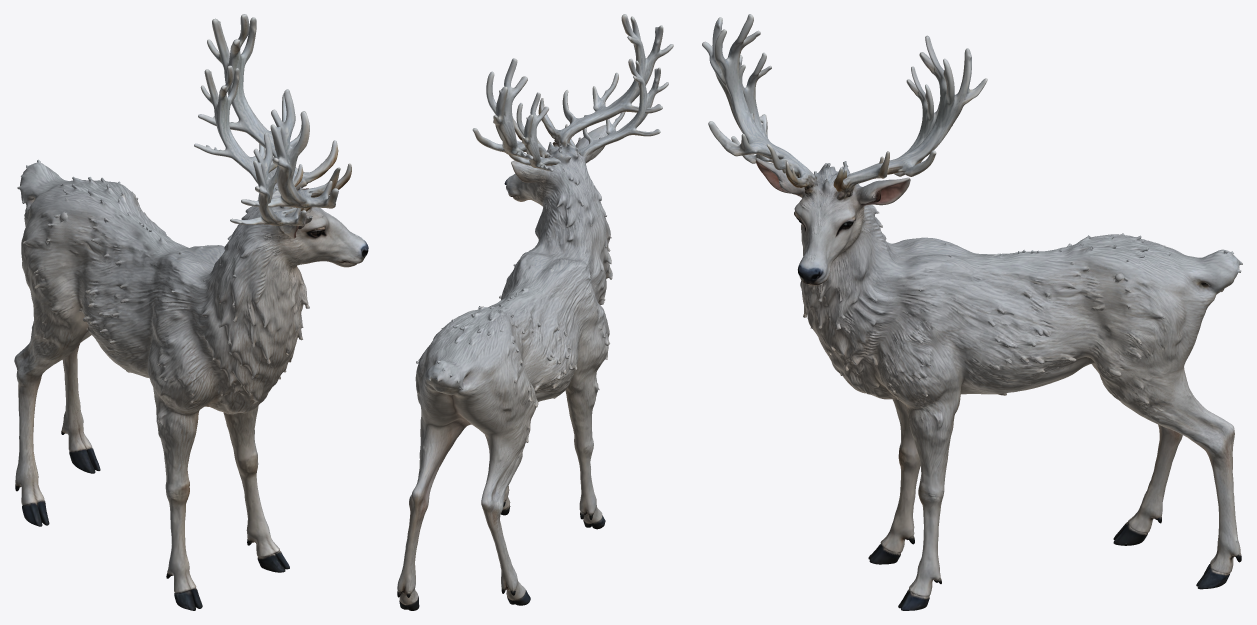
The model's file is fuzhu.glb.
The picture shows the model from 3 angles, left to right: view 1: azimuth 30°, elevation 25°; view 2: azimuth 150°, elevation 25°; view 3: azimuth 270°, elevation 25°; orthographic projection. The views are drawn at different scales.
Parts seen in each view (by area): view 1: fuzhu-corrected, fuzhu-second-pair-2, fuzhu-second-pair-1; view 2: fuzhu-corrected, fuzhu-second-pair-1, fuzhu-second-pair-2; view 3: fuzhu-corrected, fuzhu-second-pair-1, fuzhu-second-pair-2.
Boxes of the visible parts, x1,y1,x2,y2 form: fuzhu-corrected: [14, 14, 368, 610]; fuzhu-second-pair-2: [194, 65, 303, 186]; fuzhu-second-pair-1: [230, 133, 316, 225]; fuzhu-corrected: [397, 14, 673, 610]; fuzhu-second-pair-1: [565, 58, 668, 156]; fuzhu-second-pair-2: [509, 92, 561, 171]; fuzhu-corrected: [702, 14, 1242, 610]; fuzhu-second-pair-1: [731, 52, 803, 187]; fuzhu-second-pair-2: [843, 66, 939, 179].
Bounding box in the file's own units: 0.3363 × 0.9788 × 0.8534.
1 material, 1 textured.
